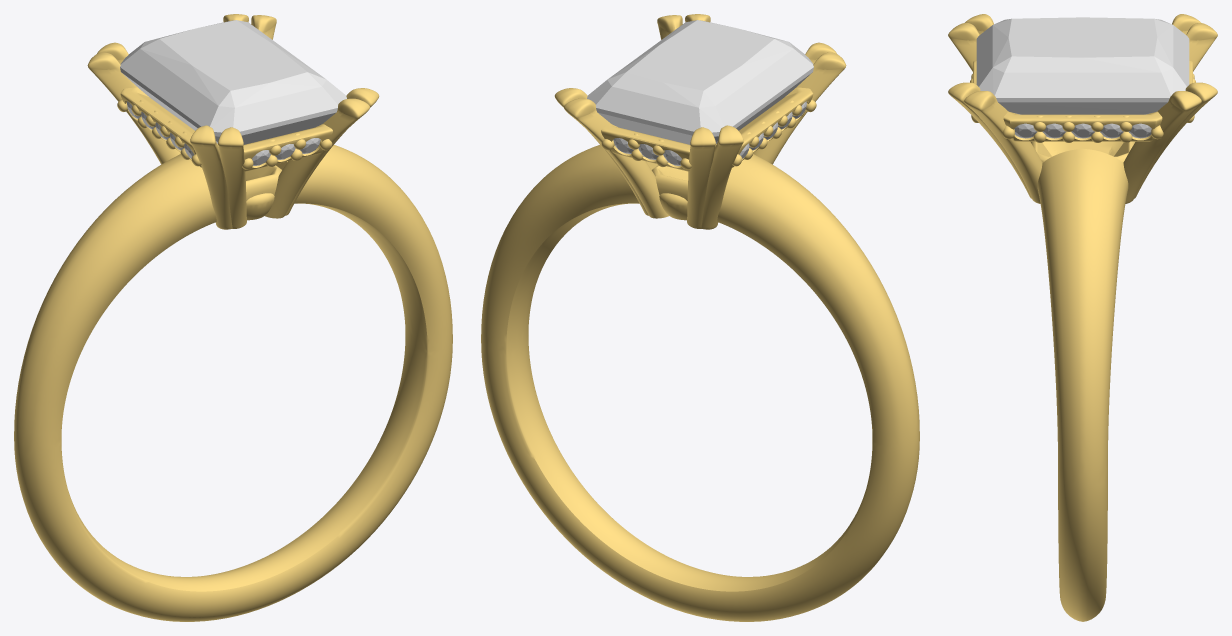
The model's file is CamV3radiant_blender.glb.
3 renders of one model, left to right at view 1: azimuth 30°, elevation 25°; view 2: azimuth 150°, elevation 25°; view 3: azimuth 270°, elevation 25°, orthographic.
Visible parts, largest first — view 1: v3 Cam YG for 3d model, Cam radiant dia for 3d model; view 2: v3 Cam YG for 3d model, Cam radiant dia for 3d model; view 3: v3 Cam YG for 3d model, Cam radiant dia for 3d model.
Part boxes in pixels (x1,y1,x2,y2): v3 Cam YG for 3d model: (14,14,452,621); Cam radiant dia for 3d model: (120,20,346,144); v3 Cam YG for 3d model: (481,14,919,621); Cam radiant dia for 3d model: (587,20,813,144); v3 Cam YG for 3d model: (948,14,1217,621); Cam radiant dia for 3d model: (976,17,1189,114).
Size of the model in its own units: 20.1 by 24.77 by 10.8.
